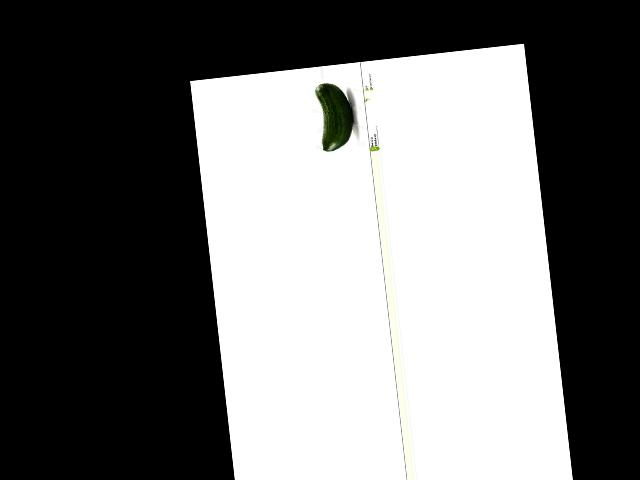cucumber: (315, 80, 356, 151)
